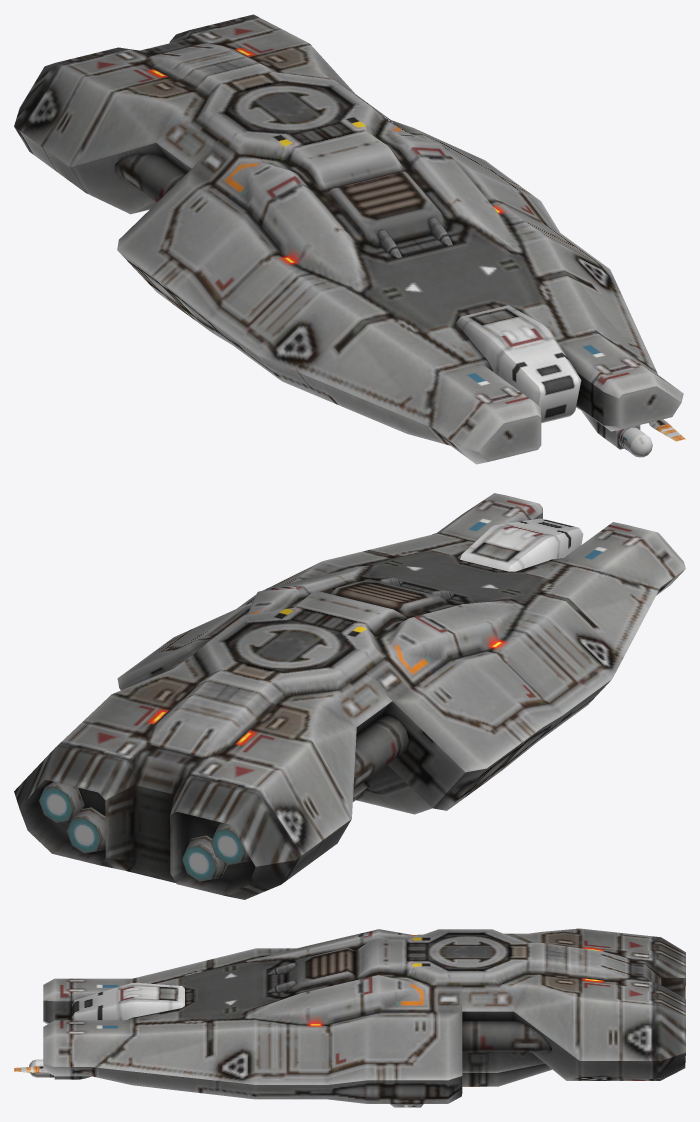
Rendered from hgn_pulsar_corvette_01_t4.glb.
The picture shows the model from 3 angles, top to bottom: view 1: azimuth 30°, elevation 25°; view 2: azimuth 150°, elevation 25°; view 3: azimuth 270°, elevation 25°; orthographic projection. The views are drawn at different scales.
Parts seen in each view (by area): view 1: hgn_pulsar_corvette_01_t4_LOD0; view 2: hgn_pulsar_corvette_01_t4_LOD0; view 3: hgn_pulsar_corvette_01_t4_LOD0.
Part boxes in pixels (x1,y1,x2,y2): hgn_pulsar_corvette_01_t4_LOD0: (14,14,685,464); hgn_pulsar_corvette_01_t4_LOD0: (14,493,685,899); hgn_pulsar_corvette_01_t4_LOD0: (14,928,685,1107).
Size of what is drawn, in the model's own units: 0.3494 by 0.16 by 0.7613.
1 material, 1 textured.
